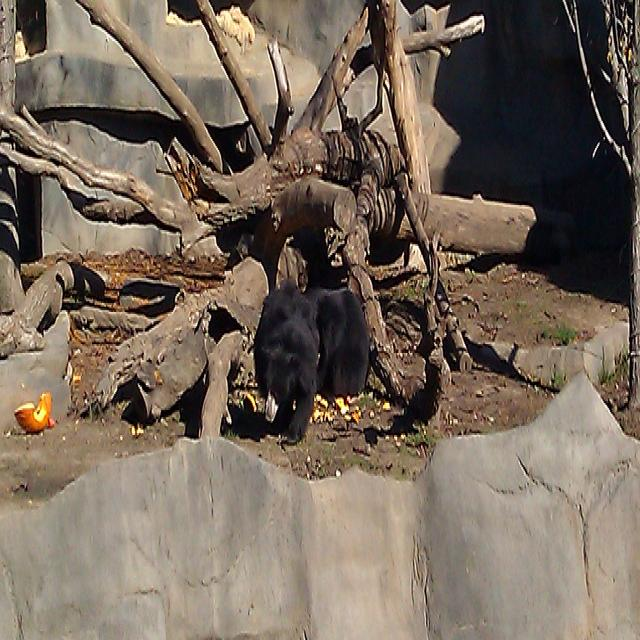Bear: (254, 262, 368, 455)
